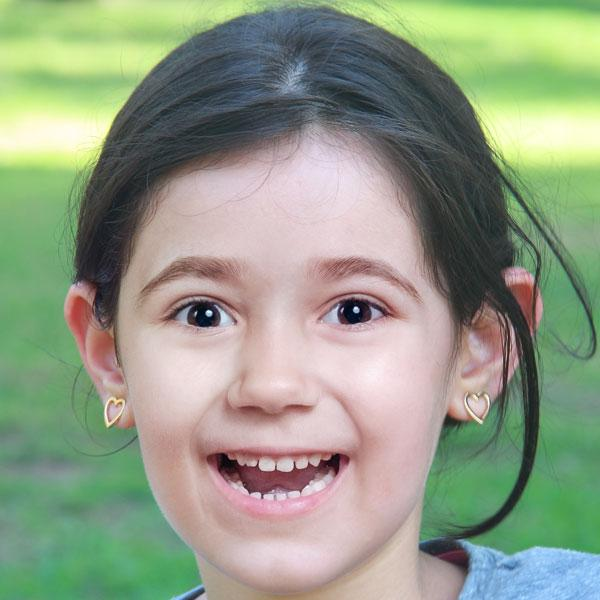Eyes: (304, 287, 395, 343), (151, 286, 243, 338)
